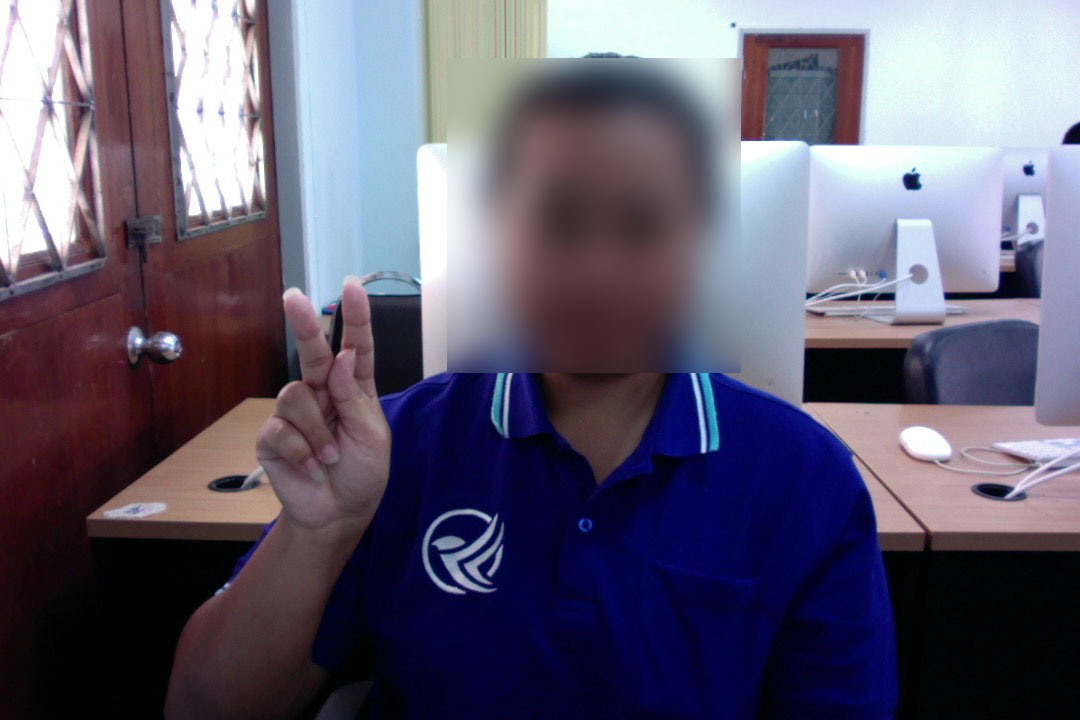ko: (249, 263, 397, 533)
